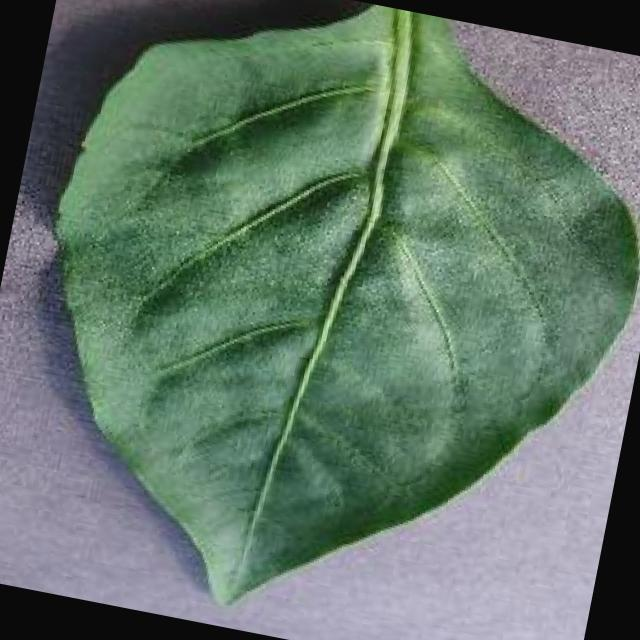healthy: (58, 7, 640, 603)
